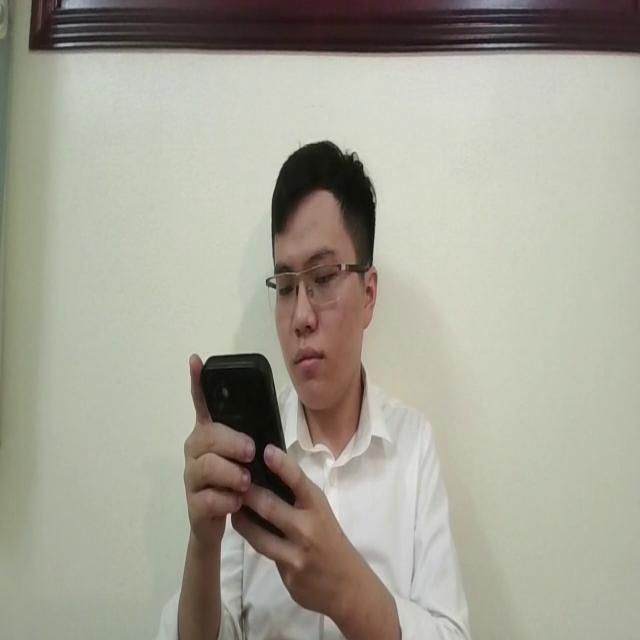phone: (198, 344, 302, 532)
student: (157, 138, 470, 640)
